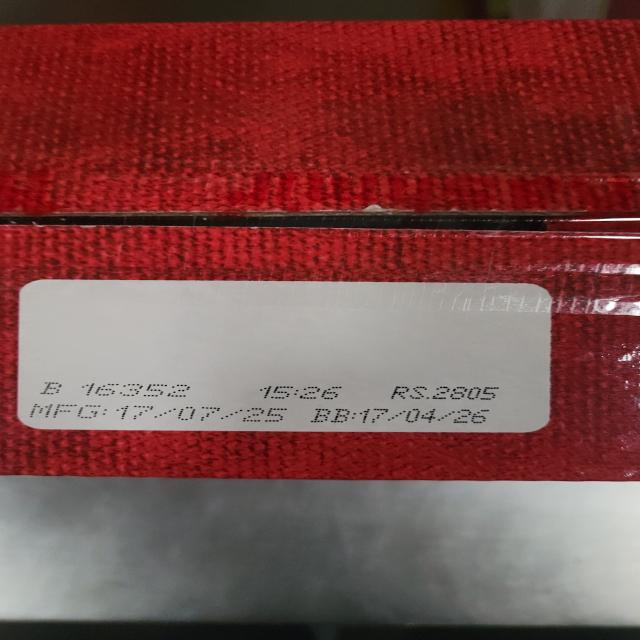BB: (307, 407, 493, 424)
Batch: (33, 380, 199, 398)
MFG: (28, 403, 285, 424)
RS: (388, 386, 504, 402)
TimeStamp: (250, 384, 344, 402)
